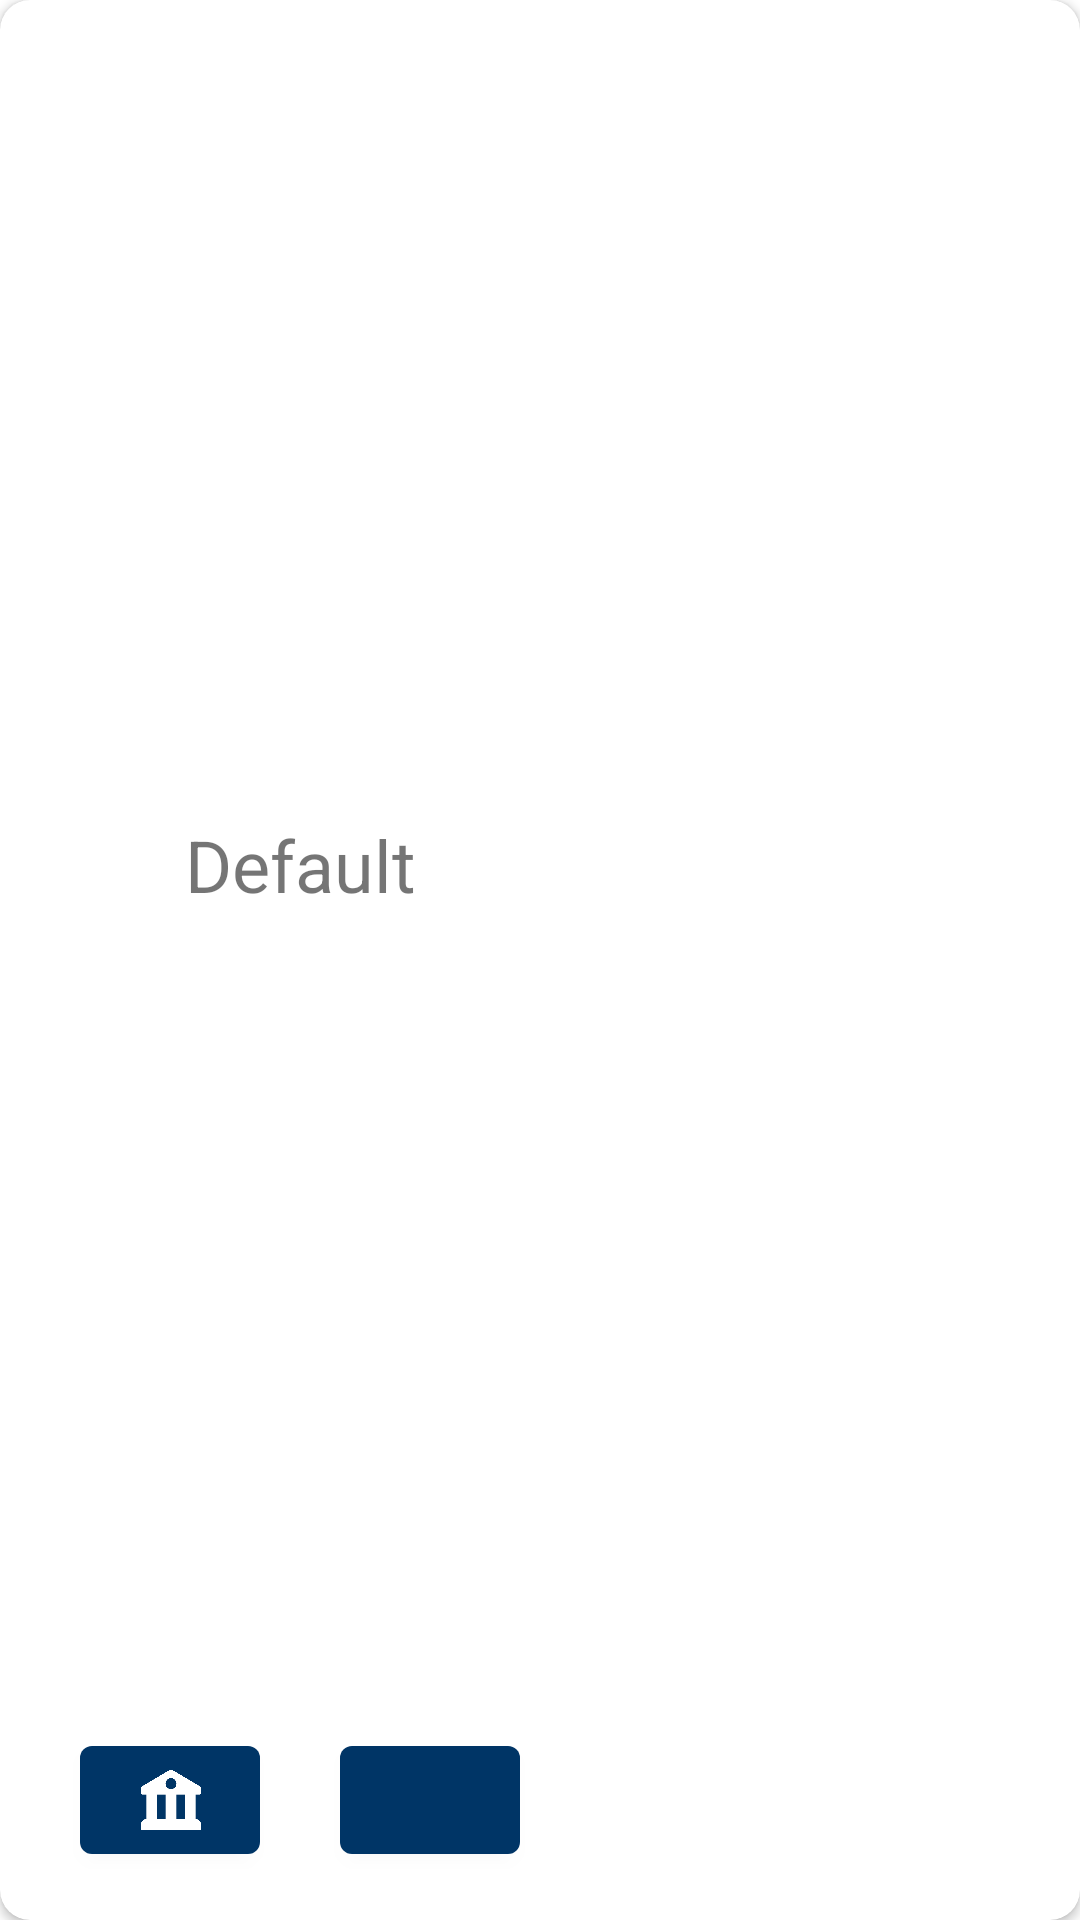

Named icons in this screenshot (1080w x 1920h) and their centers, point (x, y):
Bank: point (170, 1800)
